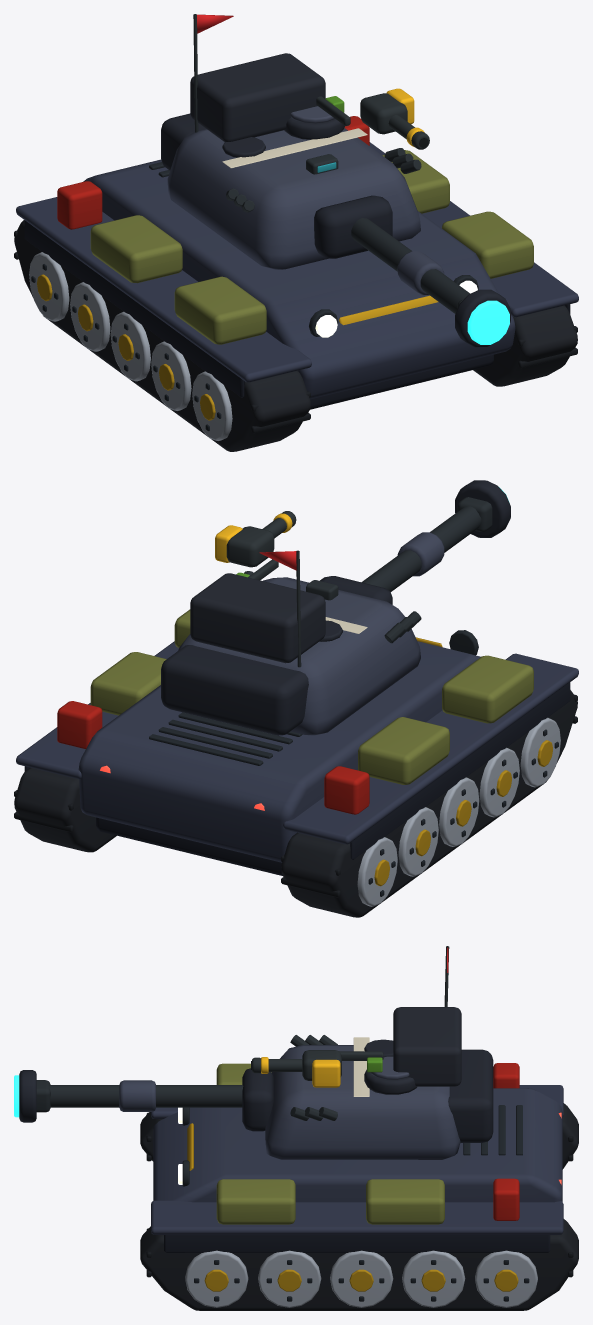
The model's file is laserTank.glb.
3 renders of one model, top to bottom at view 1: azimuth 30°, elevation 25°; view 2: azimuth 150°, elevation 25°; view 3: azimuth 270°, elevation 25°, orthographic. The views are drawn at different scales.
Parts seen in each view (by area): view 1: Hull.001, Turret.001, Track guard.002, Capacitor housing, Track housing.002, Stowage box.004, Stowage box.005, Track housing.003, Side skirt.002, Stowage box.006, Track guard.003, Gun mantlet.001 (+18 smaller); view 2: Hull.001, Turret.001, Turret bustle.001, Capacitor housing, Track guard.002, Track housing.002, Track housing.003, Stowage box.004, Stowage box.005, Side skirt.002, Stowage box.007, Belly.001 (+19 smaller); view 3: Hull.001, Turret.001, Track housing.003, Track guard.003, Side skirt.003, Capacitor housing, Stowage box.006, Cannon.001, Stowage box.007, Turret bustle.001, Road wheel.017, Road wheel.016 (+16 smaller).
Part boxes in pixels (left/top/right/bottom): Hull.001: left=83, top=159, right=515, bottom=399; Turret.001: left=167, top=128, right=420, bottom=269; Track guard.002: left=16, top=197, right=311, bottom=382; Capacitor housing: left=190, top=53, right=325, bottom=141; Track housing.002: left=14, top=220, right=310, bottom=451; Stowage box.004: left=174, top=276, right=266, bottom=344; Stowage box.005: left=90, top=215, right=182, bottom=283; Track housing.003: left=473, top=305, right=577, bottom=386; Side skirt.002: left=24, top=220, right=244, bottom=397; Stowage box.006: left=442, top=211, right=533, bottom=278; Track guard.003: left=369, top=142, right=578, bottom=317; Gun mantlet.001: left=314, top=195, right=392, bottom=258; Hull.001: left=78, top=641, right=480, bottom=862; Turret.001: left=178, top=577, right=420, bottom=735; Turret bustle.001: left=161, top=645, right=308, bottom=735; Capacitor housing: left=190, top=573, right=325, bottom=663; Track guard.002: left=283, top=653, right=578, bottom=844; Track housing.002: left=281, top=690, right=577, bottom=917; Track housing.003: left=14, top=767, right=116, bottom=852; Stowage box.004: left=442, top=655, right=533, bottom=723; Stowage box.005: left=358, top=717, right=449, bottom=784; Side skirt.002: left=350, top=682, right=570, bottom=859; Stowage box.007: left=90, top=652, right=166, bottom=715; Belly.001: left=96, top=817, right=282, bottom=875; Hull.001: left=153, top=1088, right=562, bottom=1202; Turret.001: left=265, top=1045, right=460, bottom=1159; Track housing.003: left=140, top=1219, right=578, bottom=1310; Track guard.003: left=151, top=1200, right=563, bottom=1234; Side skirt.003: left=164, top=1235, right=550, bottom=1252; Capacitor housing: left=393, top=1007, right=461, bottom=1086; Stowage box.006: left=216, top=1179, right=295, bottom=1224; Cannon.001: left=49, top=1085, right=243, bottom=1107; Stowage box.007: left=366, top=1179, right=444, bottom=1224; Turret bustle.001: left=448, top=1049, right=493, bottom=1142; Road wheel.017: left=330, top=1250, right=393, bottom=1307; Road wheel.016: left=258, top=1250, right=321, bottom=1307.
Size of the model in its own units: 3.98 by 3.45 by 6.44.
Materials: 17 (13 with a texture image).
